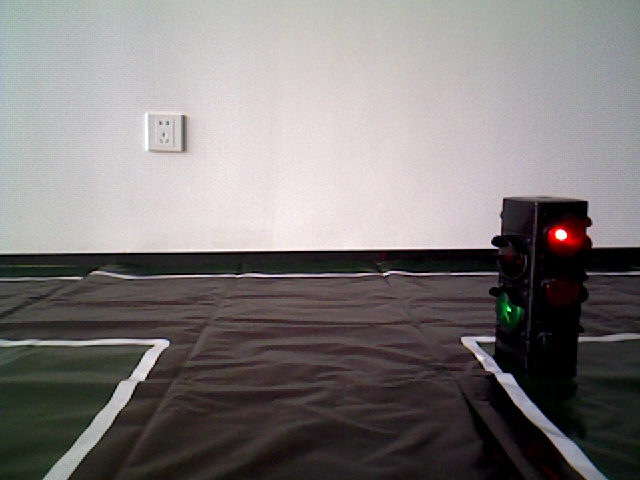red: (498, 200, 581, 383)
